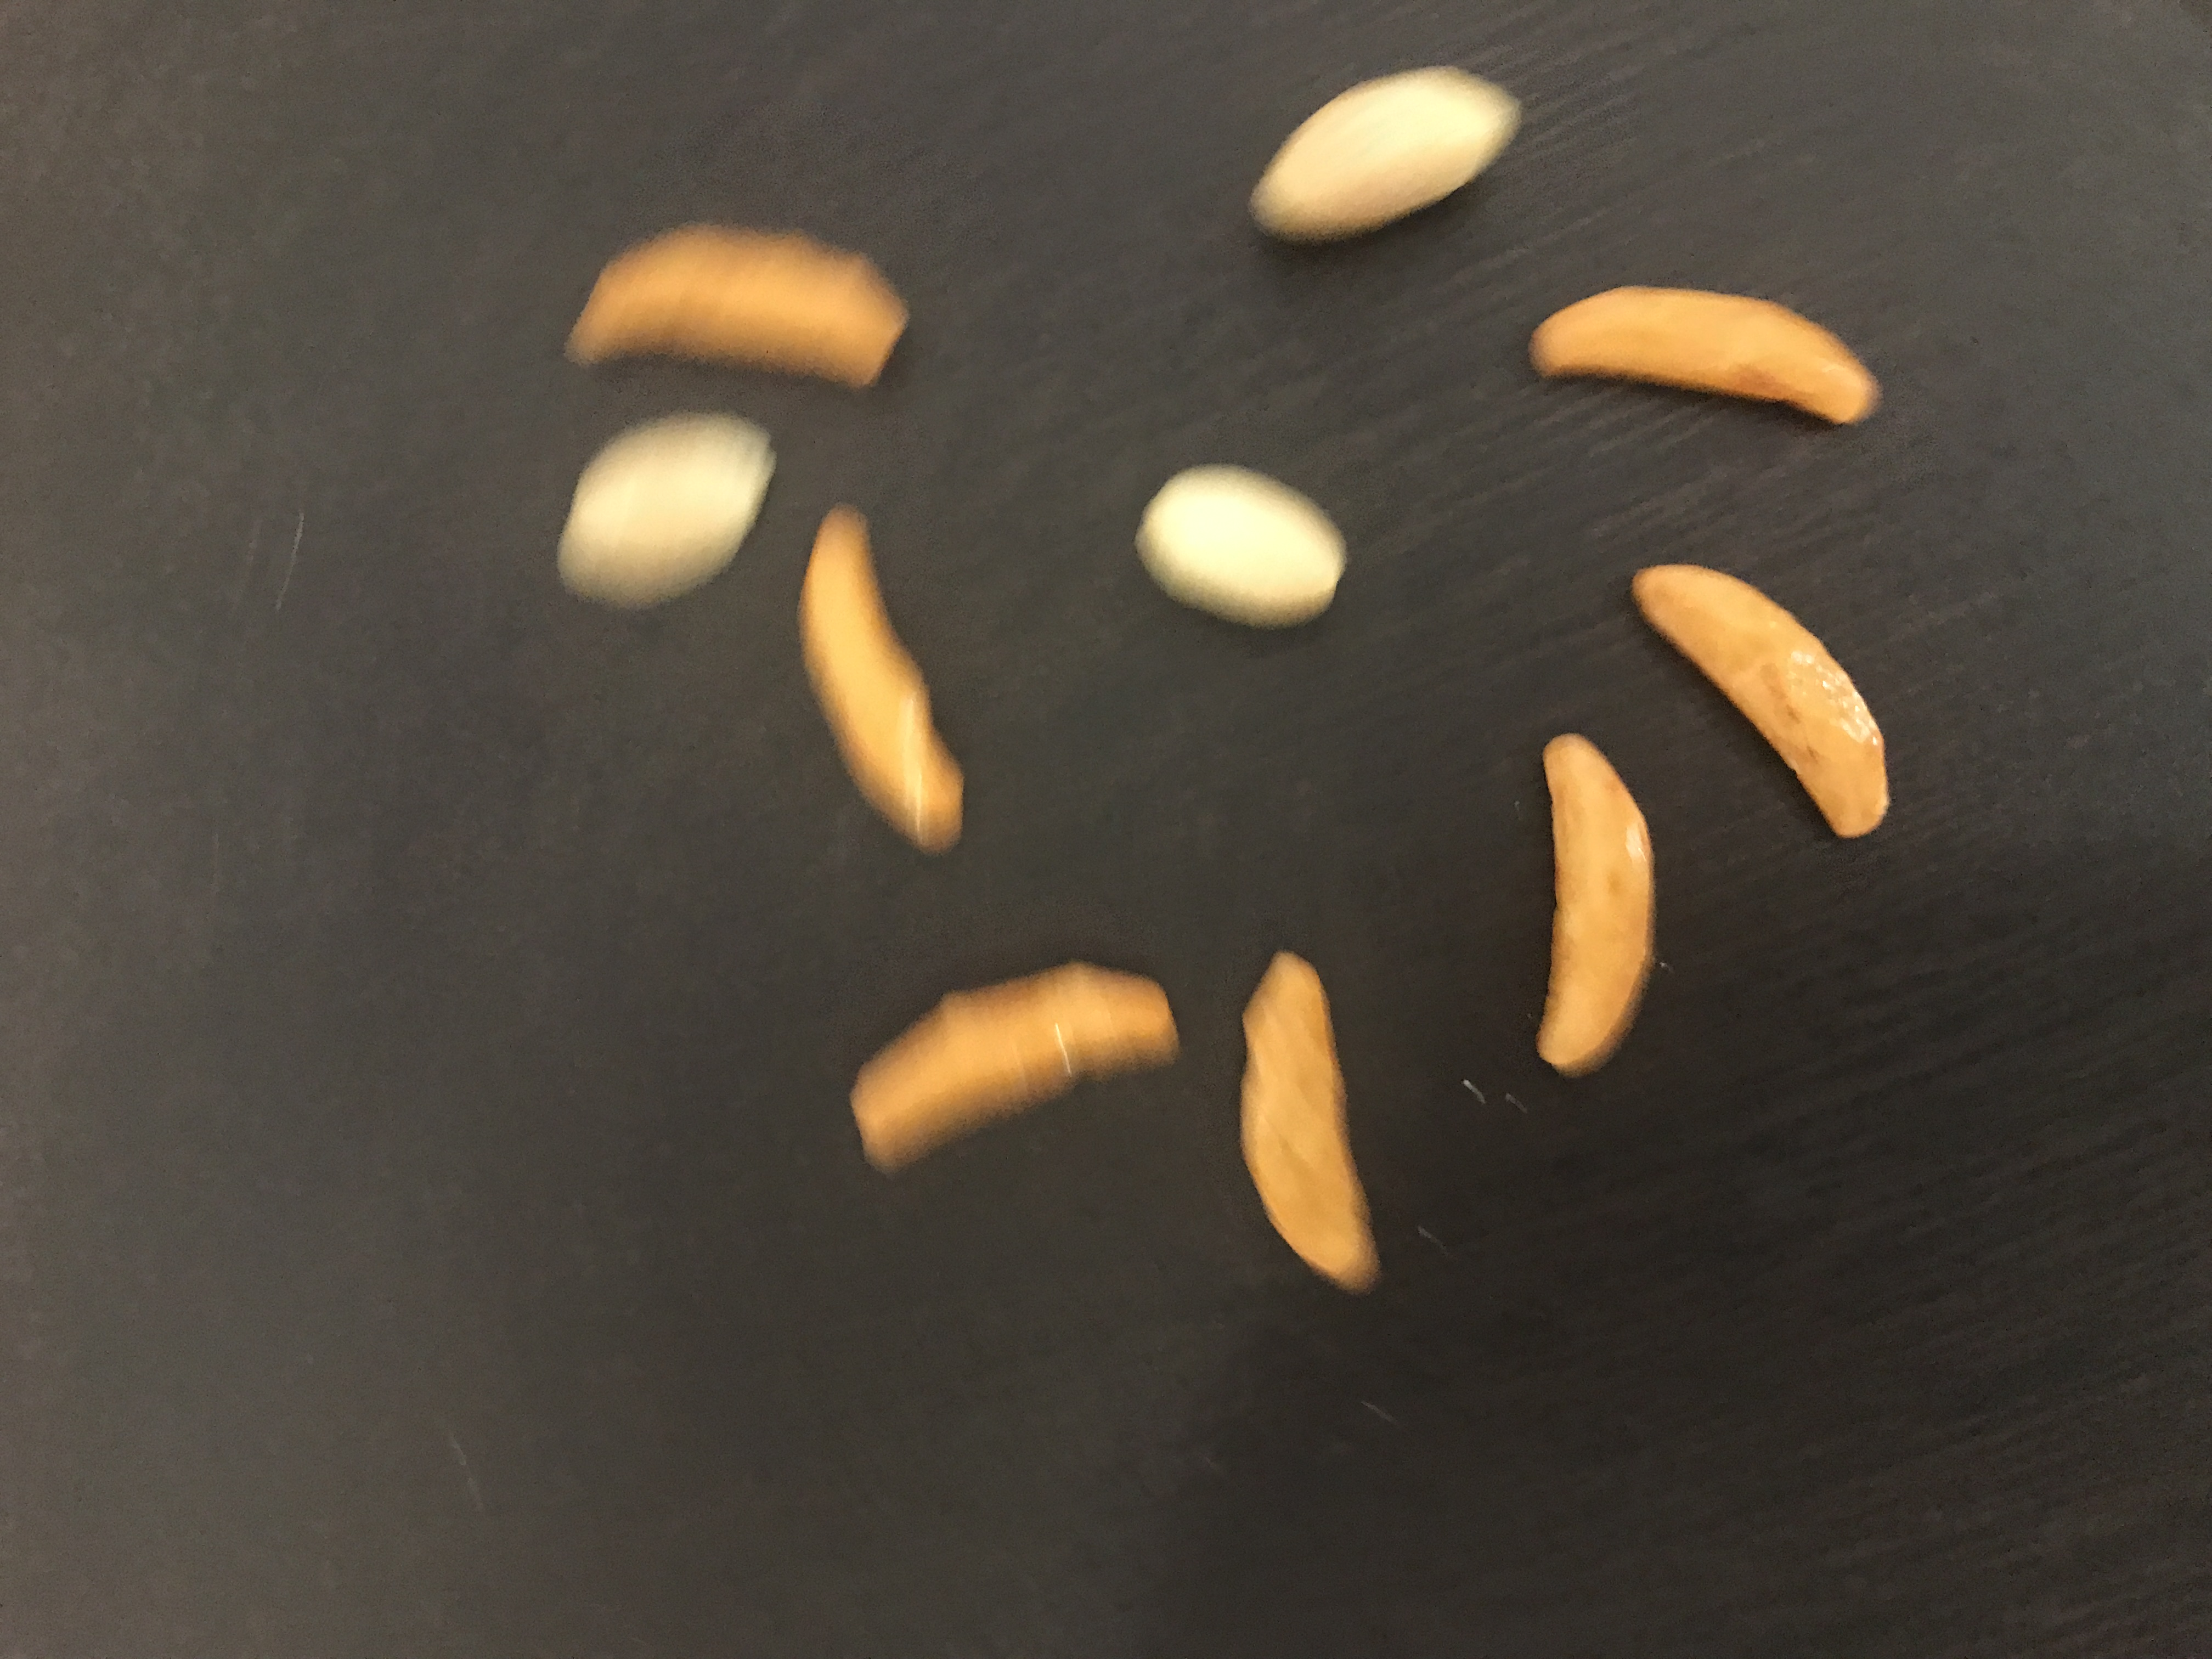peanut: (1240, 59, 1529, 242), (542, 406, 780, 612), (1130, 455, 1348, 627)
